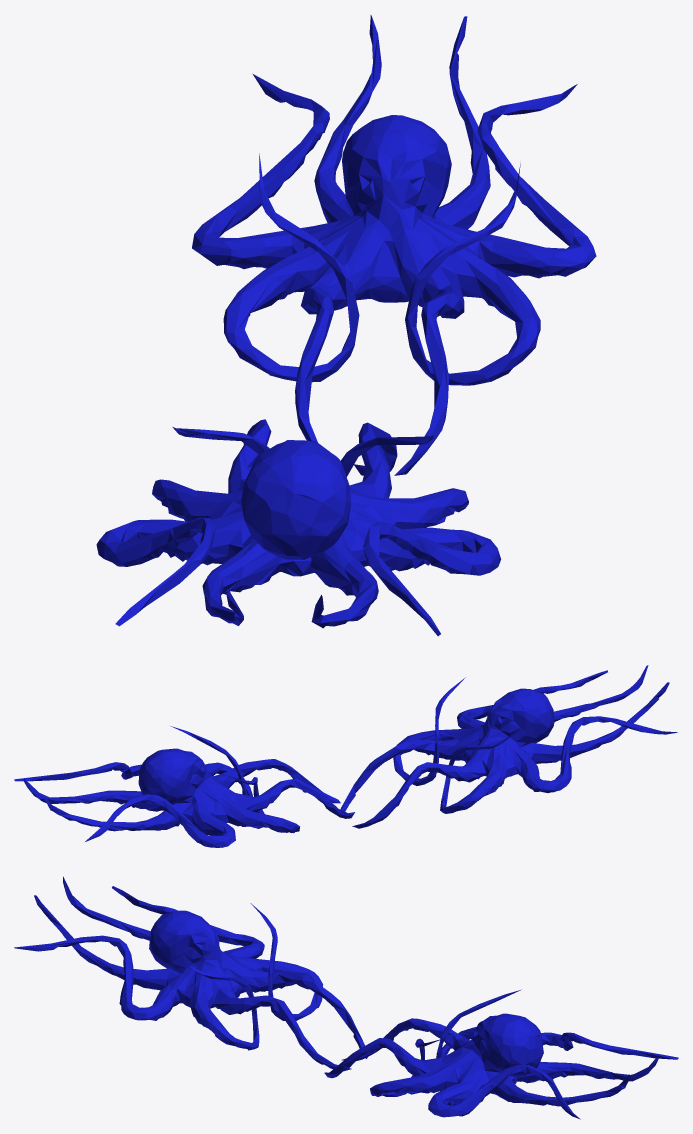
Rendered from plat_02.obj.
The picture shows the model from 3 angles, top to bottom: view 1: azimuth 30°, elevation 25°; view 2: azimuth 150°, elevation 25°; view 3: azimuth 270°, elevation 25°; orthographic projection. The views are drawn at different scales.
Visible parts, largest first — view 1: Default_1.1; view 2: Default_1.1; view 3: Default_1.1.
Part boxes in pixels (box(x1,y1,x2,y2)): Default_1.1: box(96, 15, 596, 636); Default_1.1: box(14, 665, 677, 847); Default_1.1: box(14, 876, 678, 1119).
Bounding box in the file's own units: 95.15 × 19.71 × 113.
